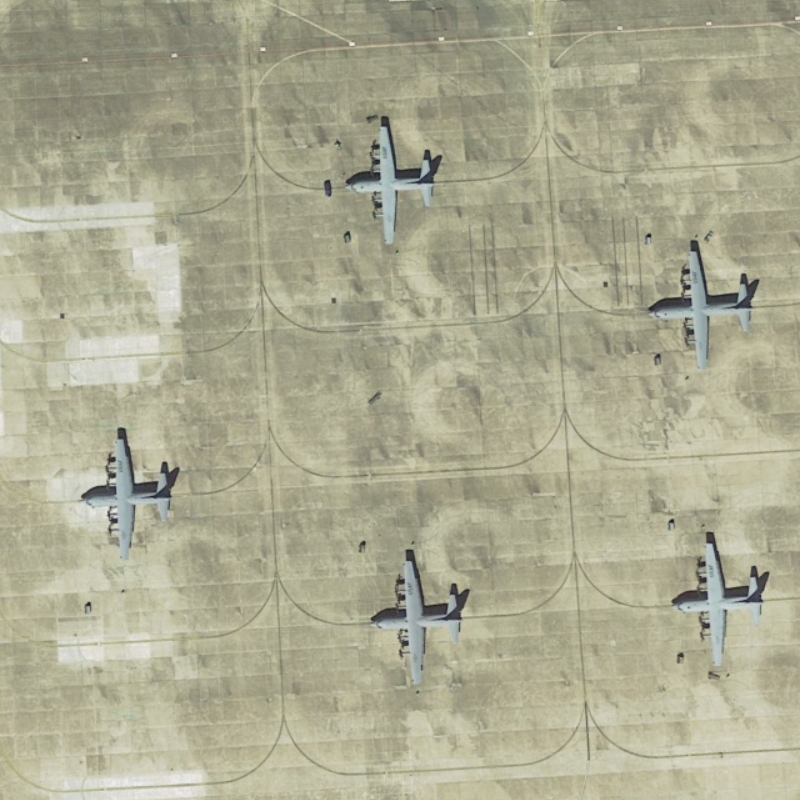A2: (645, 245, 757, 373), (364, 557, 467, 687), (666, 539, 767, 669), (76, 435, 177, 562), (339, 122, 439, 249)
